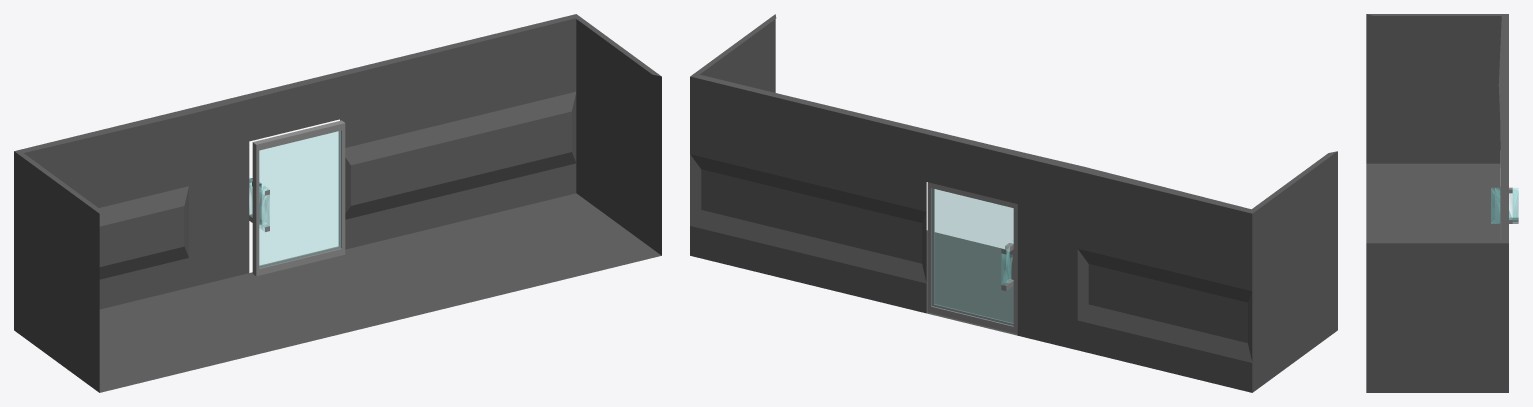
File: mart@in_open_s.FBX
3 views of the same model, side by side, from view 1: azimuth 30°, elevation 25°; view 2: azimuth 150°, elevation 25°; view 3: azimuth 270°, elevation 25° (orthographic). The views are drawn at different scales.
Visible parts, largest first — view 1: Box001, Object002; view 2: Box001, Object002; view 3: Box001, Object002.
Part boxes in pixels (bbox=[...]): Box001: bbox=[14, 14, 661, 392]; Object002: bbox=[249, 120, 345, 276]; Box001: bbox=[690, 14, 1337, 392]; Object002: bbox=[927, 182, 1017, 333]; Box001: bbox=[1366, 14, 1508, 392]; Object002: bbox=[1491, 150, 1518, 240].
Bounding box in the file's own units: 80 × 24.37 × 22.5.
